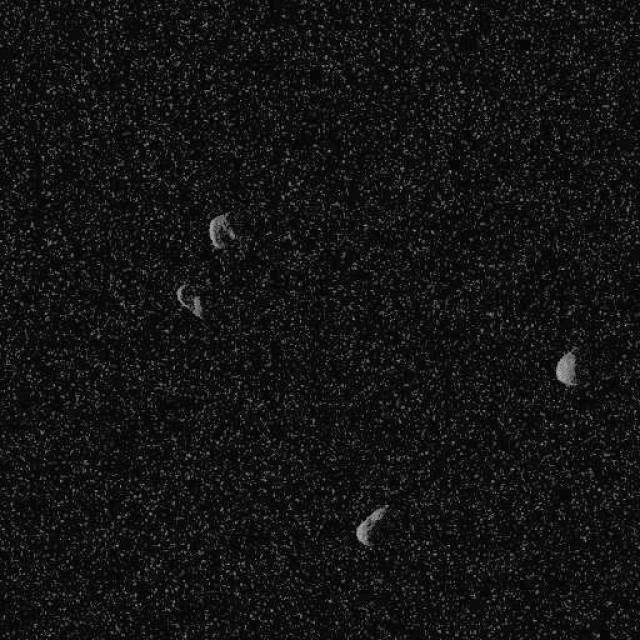D2: (353, 503, 388, 548), (175, 281, 205, 320), (207, 211, 235, 250), (554, 350, 578, 386)
